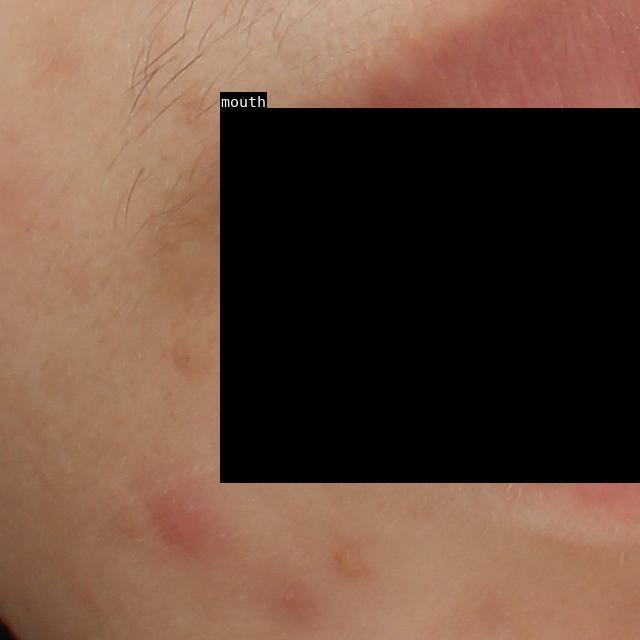papule: (143, 482, 222, 559), (283, 586, 305, 608)
